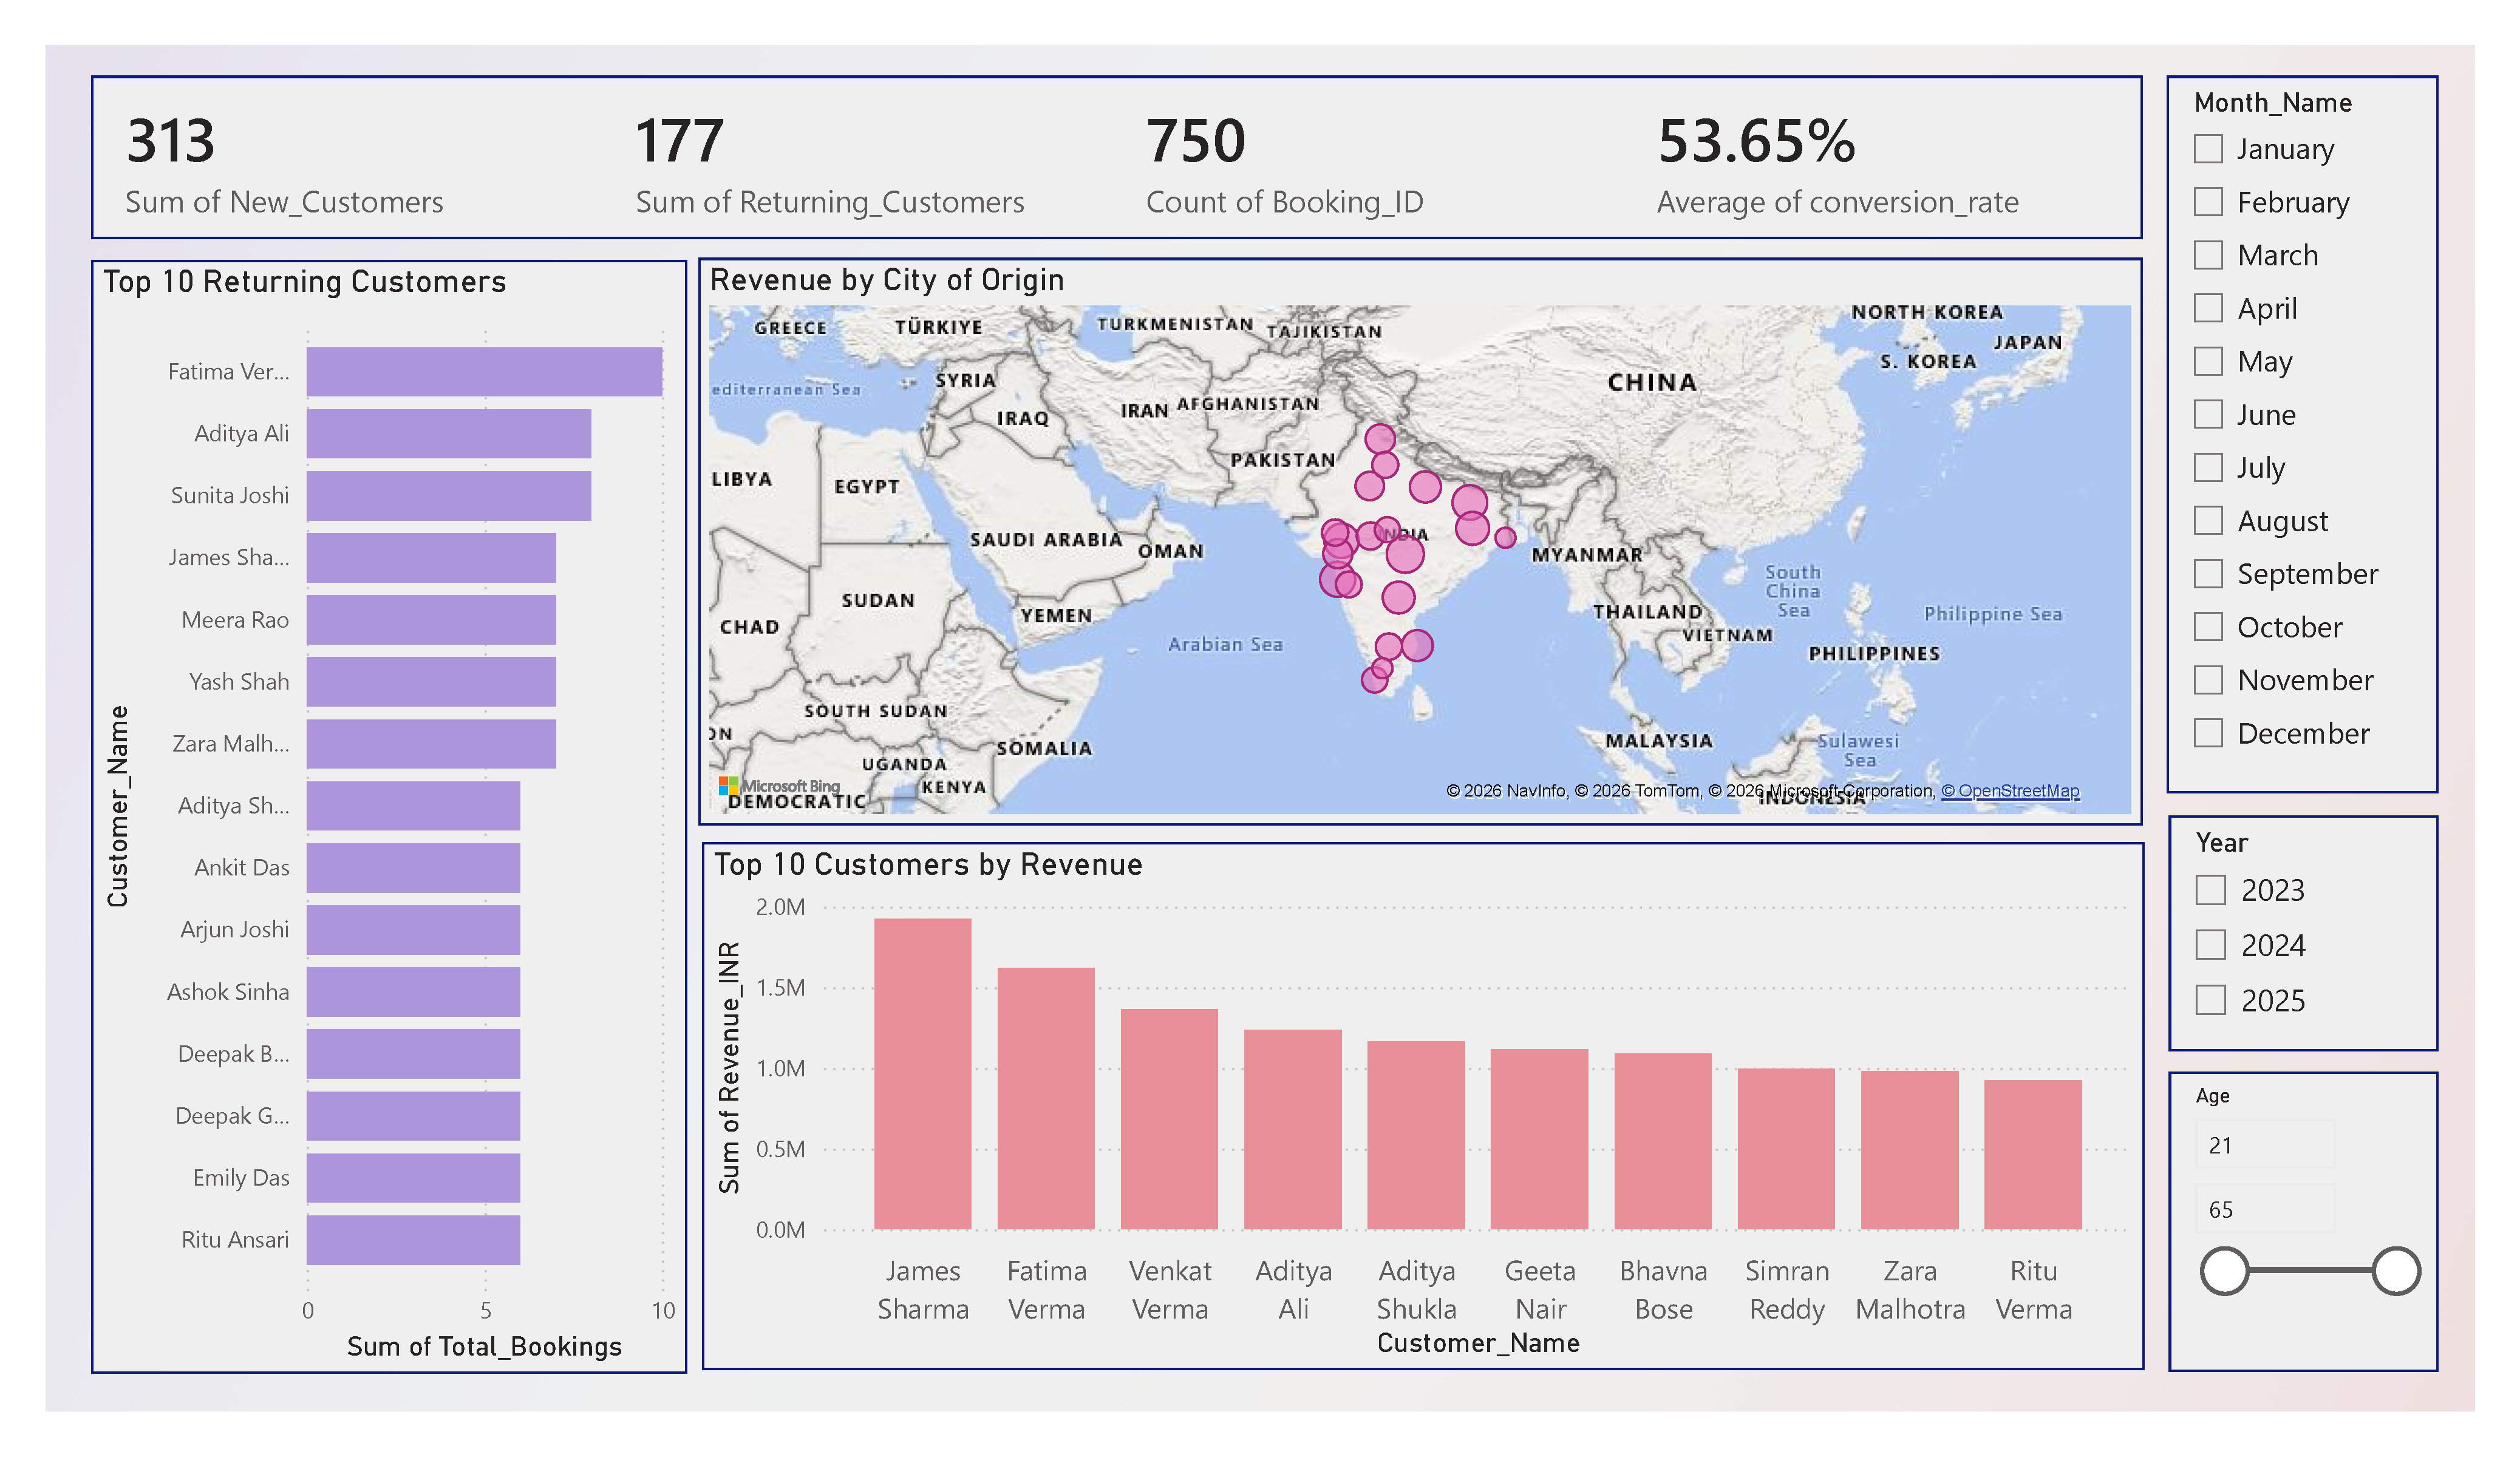

This screenshot's page, from the dashboard's own definition file:
{"tool":"powerbi","page":{"name":"Customer Analysis","canvas":[1280,720],"ordinal":1},"visuals":[{"type":"columnChart","title":"Top 10 Customers by Revenue","fields":{"Category":["Customers.Customer_Name"],"Y":["Sum(Bookings.Revenue_INR)"]},"box":[346.2,420,760,278.2],"z":0},{"type":"map","title":"Revenue by City of Origin","fields":{"Category":["Bookings.City_of_Origin"],"Size":["Sum(Bookings.Revenue_INR)"]},"box":[343.8,112.2,761.2,299],"z":1000},{"type":"cardVisual","fields":{"Data":["Sum(Annual_Overview.New_Customers)","Sum(Annual_Overview.Returning_Customers)","CountNonNull(Bookings.Booking_ID)","Avg(Lead conversion rate by Action type.conversion_rate)"]},"box":[23.8,16.2,1081.2,85.5],"z":2000},{"type":"slicer","fields":{"Values":["Bookings.Month_Name"]},"box":[1118,16.2,143.3,377.5],"z":3000},{"type":"clusteredBarChart","title":"Top 10 Returning Customers","fields":{"Category":["Customers.Customer_Name"],"Y":["Sum(Customers.Total_Bookings)"]},"box":[23.8,112.5,313.8,587.8],"z":4000},{"type":"slicer","fields":{"Values":["Customers.Age"]},"box":[1118.8,541.2,142.5,158],"z":5000},{"type":"slicer","fields":{"Values":["Bookings.Year"]},"box":[1118.8,406.2,142.5,123.8],"z":6000}]}

Visuals, with their boxes in screenshot pixels (x1, y1, x2, y2):
"Top 10 Customers by Revenue" columnChart: {"x1": 714, "y1": 832, "x2": 2137, "y2": 1353}
"Revenue by City of Origin" map: {"x1": 709, "y1": 256, "x2": 2135, "y2": 816}
cardVisual - Sum(Annual_Overview.New_Customers) x Sum(Annual_Overview.Returning_Customers): {"x1": 110, "y1": 76, "x2": 2135, "y2": 236}
slicer - Bookings.Month_Name: {"x1": 2159, "y1": 76, "x2": 2428, "y2": 783}
"Top 10 Returning Customers" clusteredBarChart: {"x1": 110, "y1": 257, "x2": 698, "y2": 1357}
slicer - Customers.Age: {"x1": 2161, "y1": 1059, "x2": 2428, "y2": 1355}
slicer - Bookings.Year: {"x1": 2161, "y1": 806, "x2": 2428, "y2": 1038}
